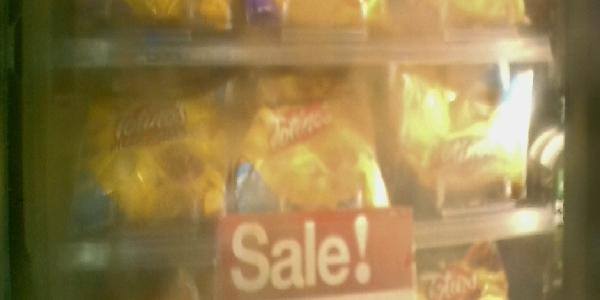icecream: (401, 58, 556, 216), (78, 82, 228, 240), (239, 72, 383, 229)
